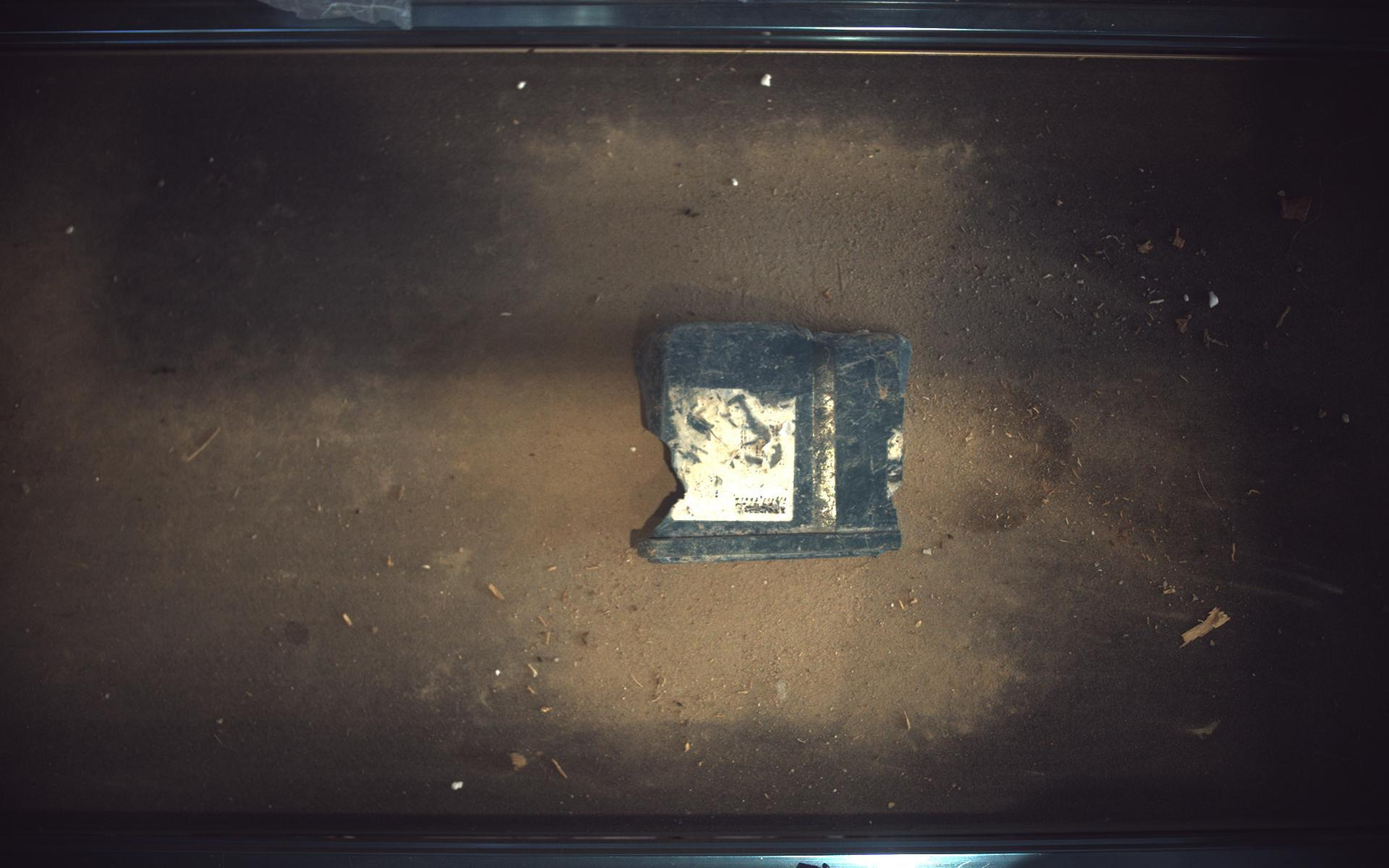plastic: (636, 322, 912, 563)
